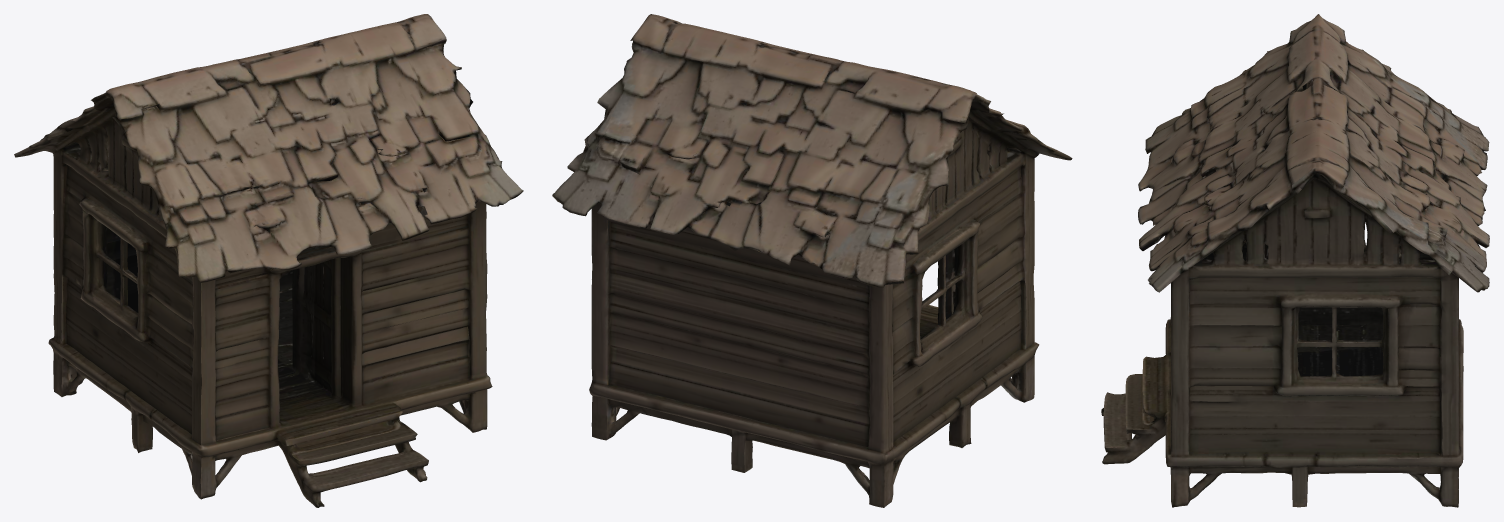
File: hut_old.glb
The picture shows the model from 3 angles, left to right: view 1: azimuth 30°, elevation 25°; view 2: azimuth 150°, elevation 25°; view 3: azimuth 270°, elevation 25°; orthographic projection. The views are drawn at different scales.
Parts seen in each view (by area): view 1: Mesh0; view 2: Mesh0; view 3: Mesh0.
Part boxes in pixels (bbox=[...]): Mesh0: bbox=[14, 14, 523, 507]; Mesh0: bbox=[552, 14, 1072, 507]; Mesh0: bbox=[1101, 14, 1489, 507].
Size of the model in its own units: 1.9 by 1.91 by 1.91.
1 material, 1 textured.
